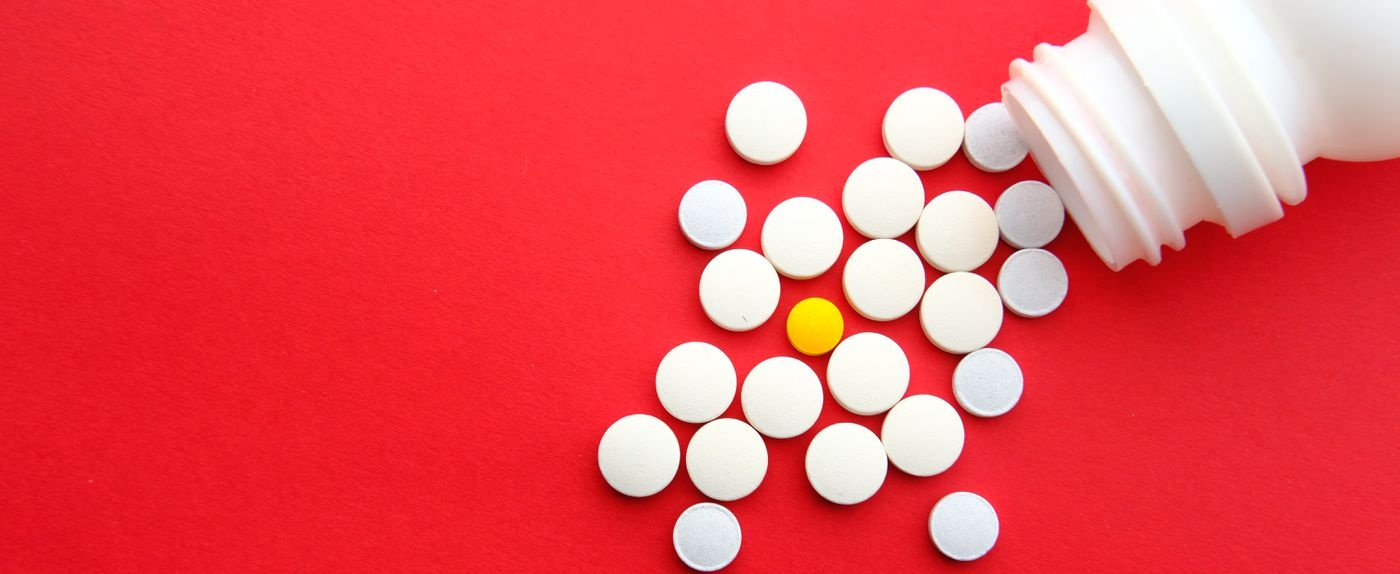pills: (797, 421, 902, 499), (669, 419, 774, 497), (657, 496, 762, 574), (597, 420, 702, 498), (649, 345, 754, 423), (729, 363, 834, 441), (690, 255, 795, 333), (709, 90, 814, 168), (744, 199, 849, 277), (833, 243, 938, 321), (821, 337, 926, 415), (879, 401, 984, 479), (839, 242, 944, 320), (836, 157, 941, 235), (880, 83, 985, 161), (918, 499, 1008, 562)
